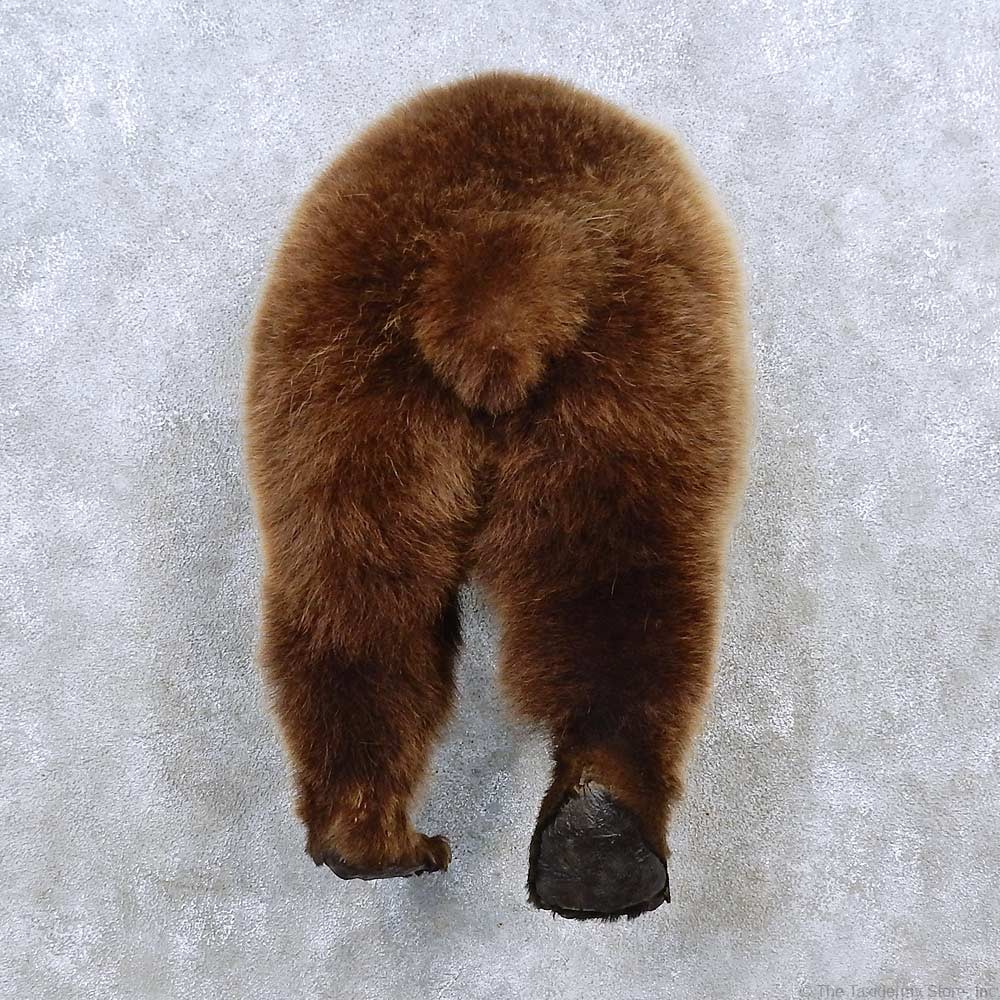bear: (231, 67, 763, 931)
